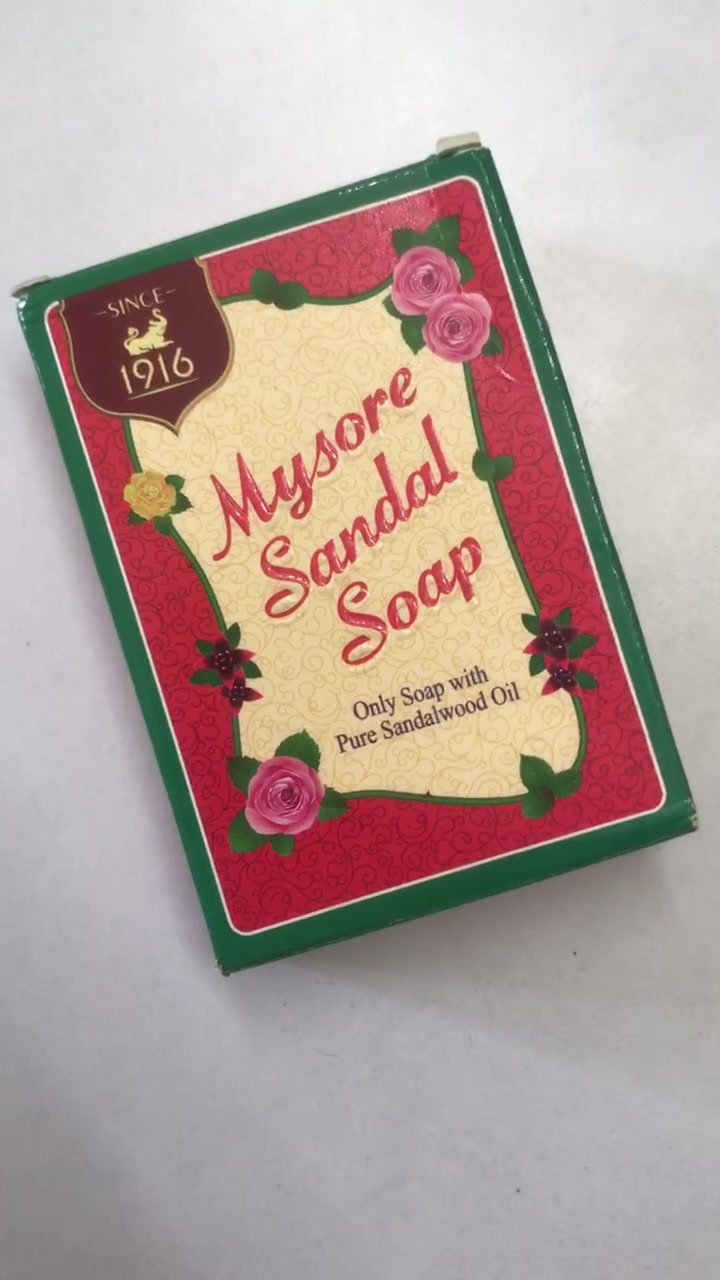mysore sandal soap: (26, 152, 688, 977)
